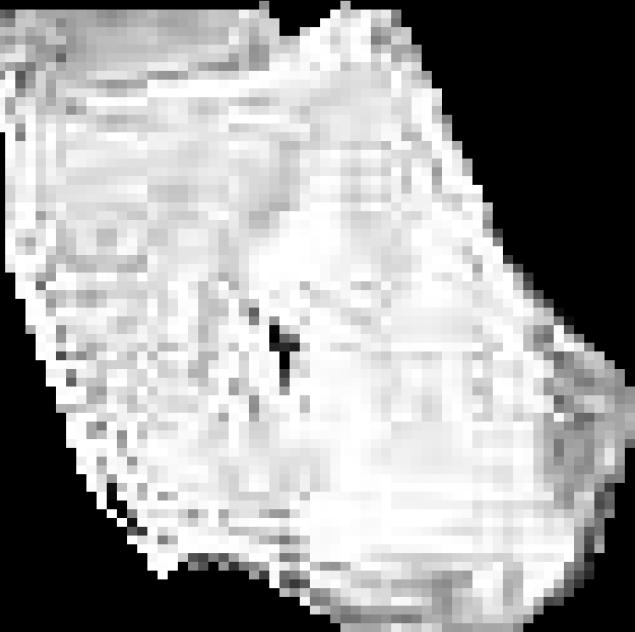tumor_moderate_chance: (0, 1, 635, 632)
